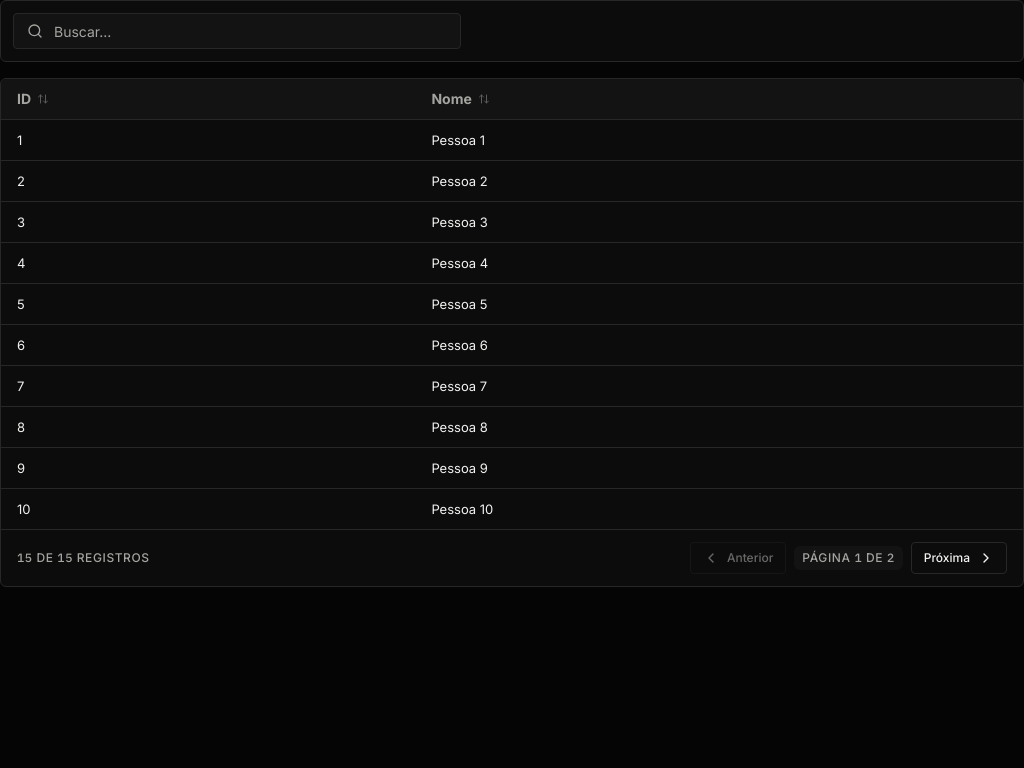
DataTable — paginação client-side (sem a prop pagination) › buscar reseta a paginação para a primeira página
Click the button "Próxima".
click(959, 558)  # box [911,542,1007,574]
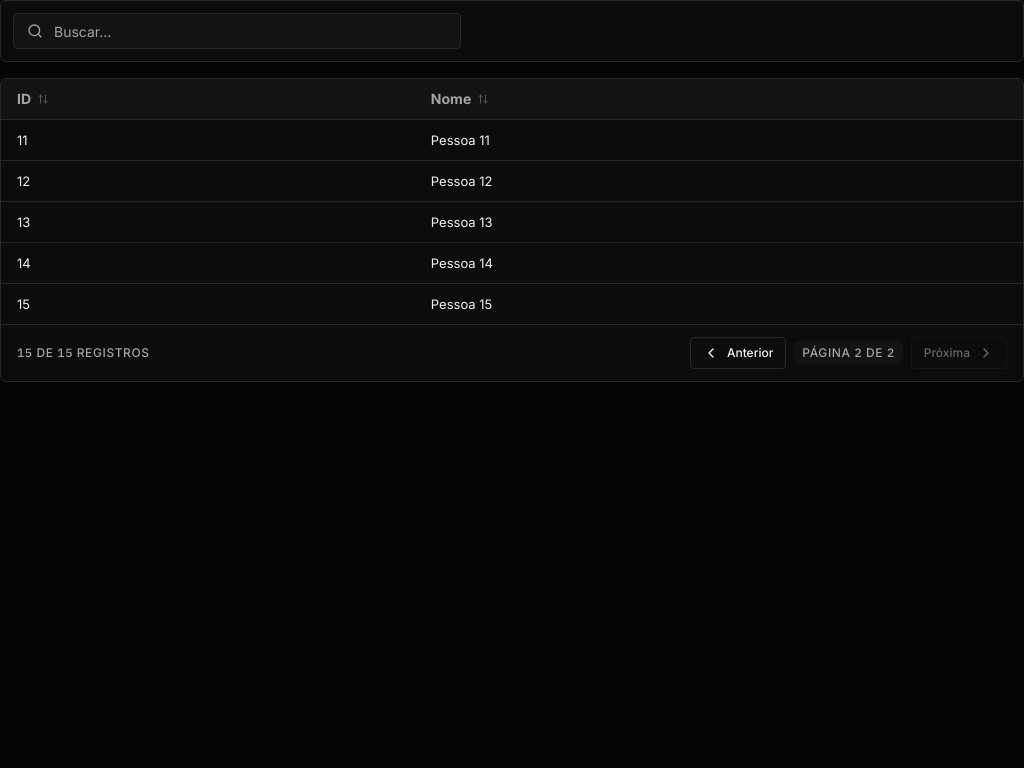
Check: the text "Pessoa 11" is shown, box [415,120,1023,160]
Type "Pessoa" into the field with placeholder "Buscar...".
click(237, 31); type("Pessoa")  # box [13,13,461,49]
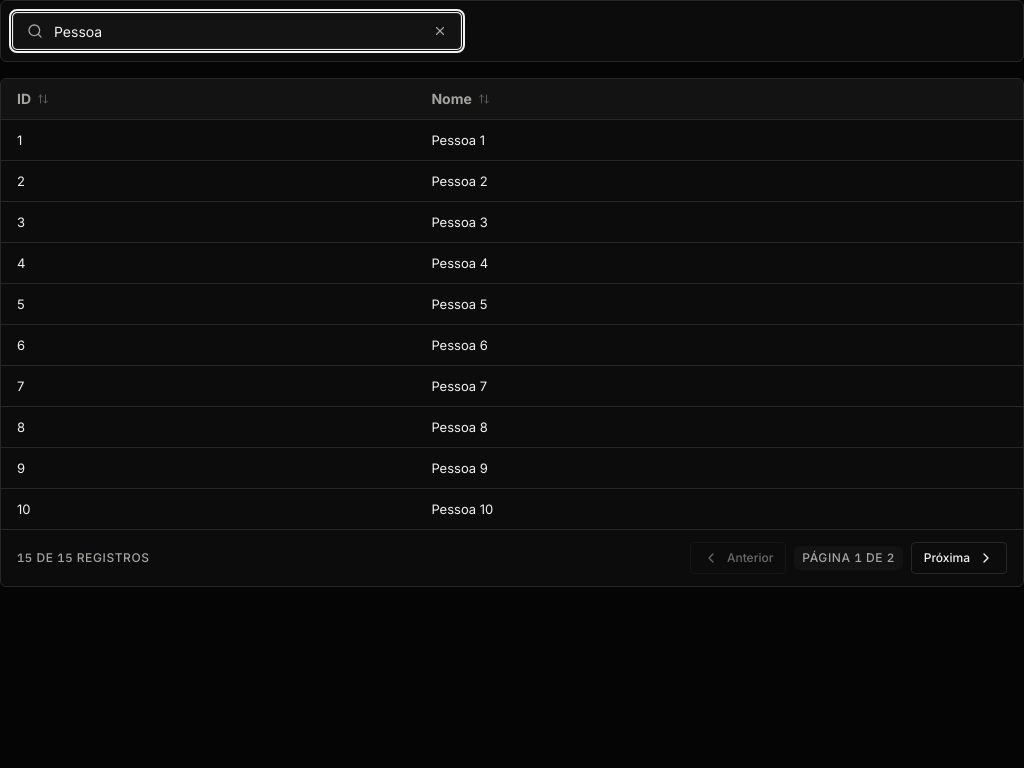
Check: the text "Pessoa 1" is shown, box [415,120,1023,160]
Check: the text "Pessoa 11" is gone
